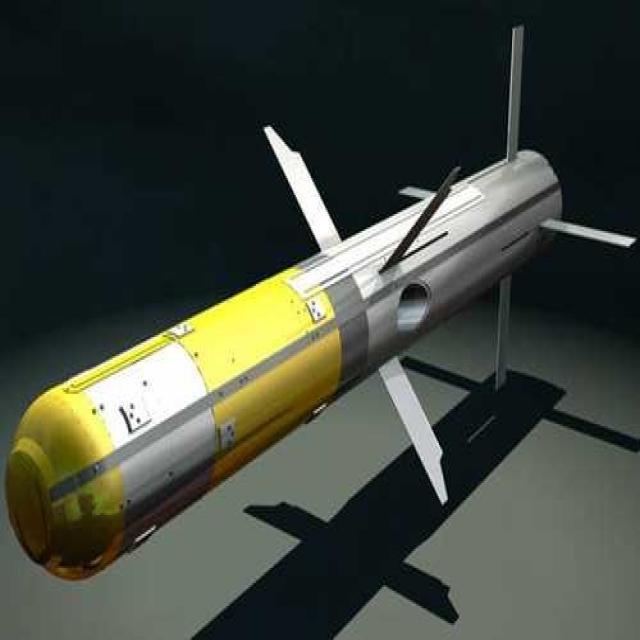missile: (11, 31, 627, 568)
